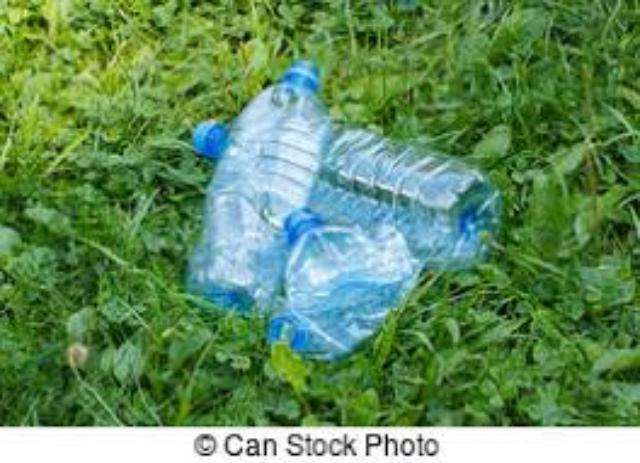plastic: (184, 58, 497, 354)
